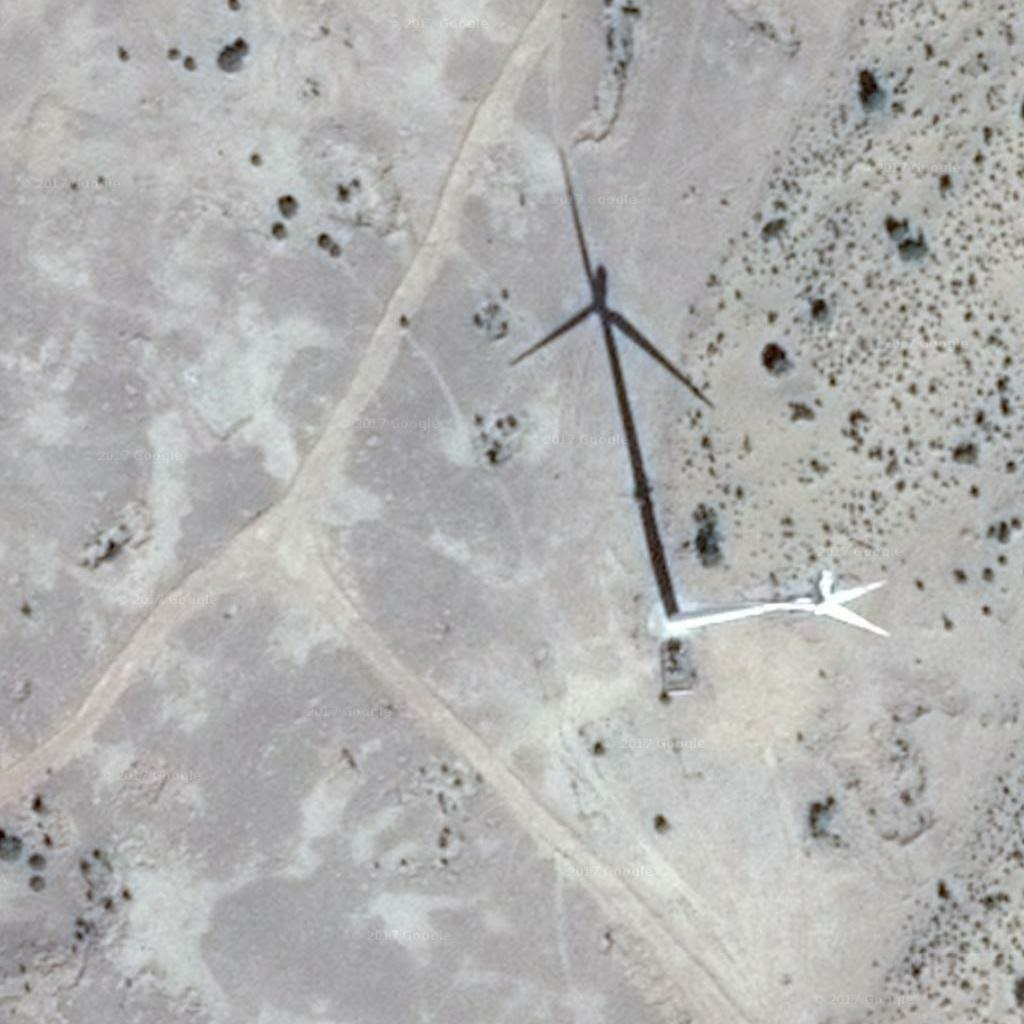Windmill: (506, 150, 697, 614)
